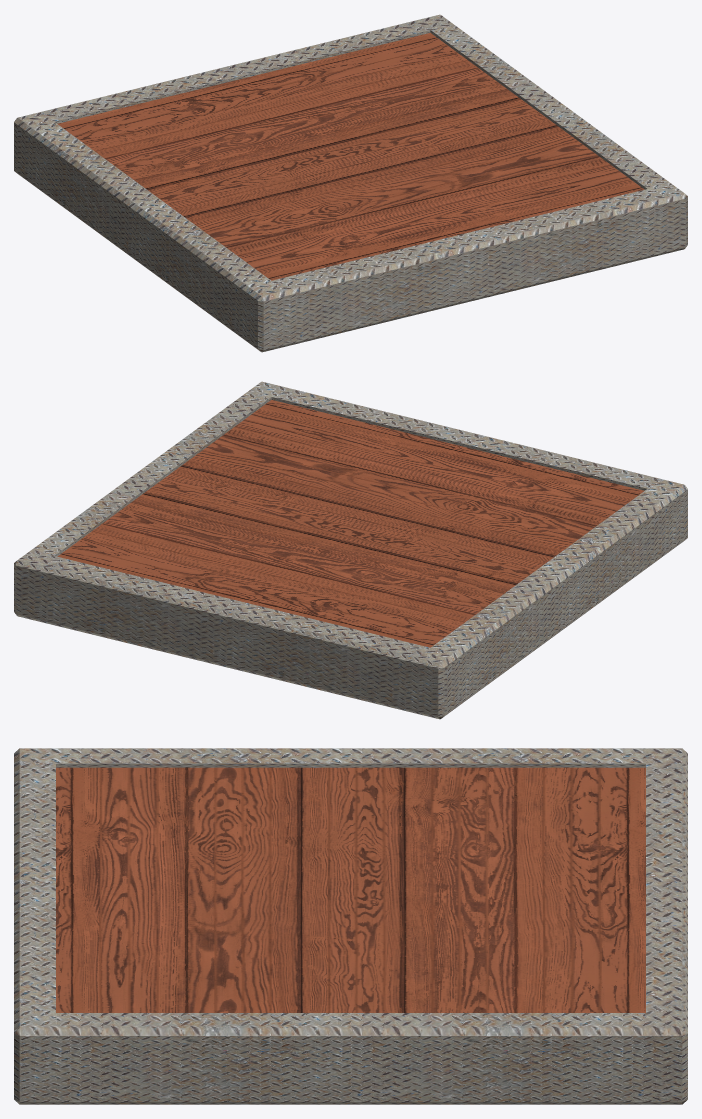
File: Platform.fbx
3 views of the same model, one above another, from view 1: azimuth 30°, elevation 25°; view 2: azimuth 150°, elevation 25°; view 3: azimuth 270°, elevation 25° (orthographic). The views are drawn at different scales.
Visible parts, largest first — view 1: Wood, Metal; view 2: Wood, Metal; view 3: Wood, Metal.
Part boxes in pixels (bbox=[...]): Wood: bbox=[57, 33, 644, 280]; Metal: bbox=[14, 14, 687, 352]; Wood: bbox=[57, 400, 644, 647]; Metal: bbox=[14, 381, 687, 719]; Wood: bbox=[56, 767, 645, 1012]; Metal: bbox=[14, 748, 687, 1104].
Bounding box in the file's own units: 4 × 0.5 × 4.
